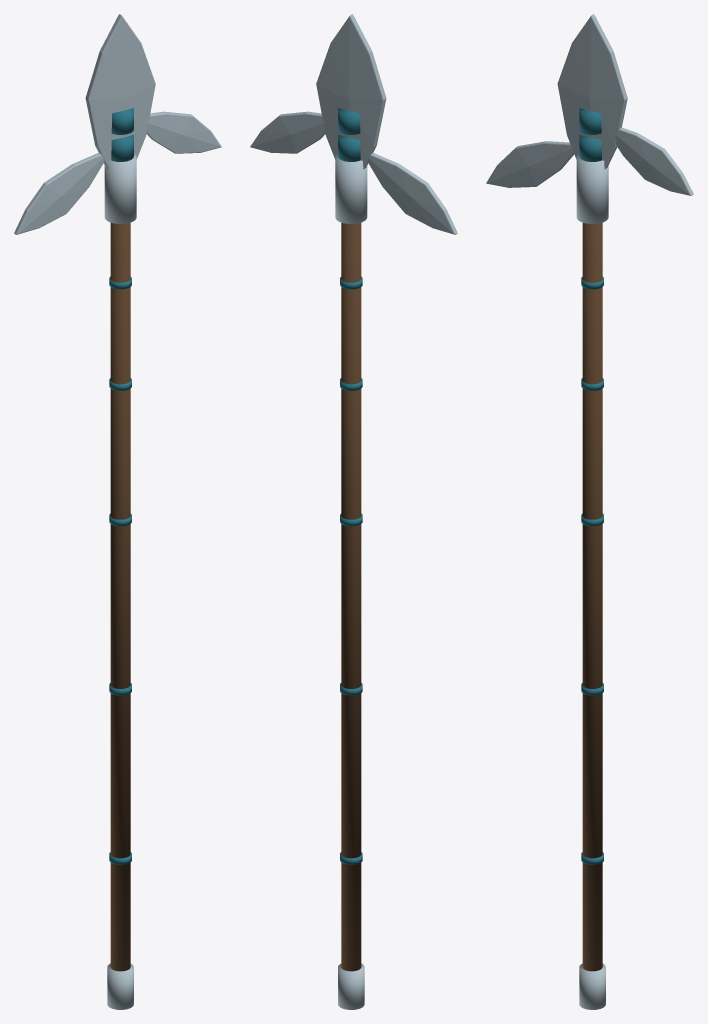
The model's file is elven-branched-spear.fbx.
The picture shows the model from 3 angles, left to right: view 1: azimuth 30°, elevation 25°; view 2: azimuth 150°, elevation 25°; view 3: azimuth 330°, elevation 25°; orthographic projection.
Visible parts, largest first — view 1: ElvenBranchedSpearShaft, ElvenBranchedSpearCentralLeaf, ElvenBranchedSpearBranchLeftLow, ElvenBranchedSpearBranchRightHigh, ElvenBranchedSpearHeadCollar, ElvenBranchedSpearButtCap, ElvenBranchedSpearBranchLeftLowCollar, ElvenBranchedSpearBranchRightHighCollar; view 2: ElvenBranchedSpearShaft, ElvenBranchedSpearCentralLeaf, ElvenBranchedSpearBranchLeftLow, ElvenBranchedSpearBranchRightHigh, ElvenBranchedSpearHeadCollar, ElvenBranchedSpearButtCap, ElvenBranchedSpearBranchLeftLowCollar, ElvenBranchedSpearBranchRightHighCollar; view 3: ElvenBranchedSpearShaft, ElvenBranchedSpearCentralLeaf, ElvenBranchedSpearBranchLeftLow, ElvenBranchedSpearBranchRightHigh, ElvenBranchedSpearHeadCollar, ElvenBranchedSpearButtCap, ElvenBranchedSpearBranchLeftLowCollar, ElvenBranchedSpearBranchRightHighCollar.
Part boxes in pixels (bbox=[...]): ElvenBranchedSpearShaft: bbox=[110, 222, 130, 971]; ElvenBranchedSpearCentralLeaf: bbox=[85, 14, 155, 169]; ElvenBranchedSpearBranchLeftLow: bbox=[14, 153, 104, 234]; ElvenBranchedSpearBranchRightHigh: bbox=[146, 111, 221, 153]; ElvenBranchedSpearHeadCollar: bbox=[104, 154, 136, 223]; ElvenBranchedSpearButtCap: bbox=[107, 963, 133, 1009]; ElvenBranchedSpearBranchLeftLowCollar: bbox=[111, 135, 133, 161]; ElvenBranchedSpearBranchRightHighCollar: bbox=[111, 108, 133, 134]; ElvenBranchedSpearShaft: bbox=[341, 222, 361, 971]; ElvenBranchedSpearCentralLeaf: bbox=[316, 14, 386, 169]; ElvenBranchedSpearBranchLeftLow: bbox=[367, 153, 457, 234]; ElvenBranchedSpearBranchRightHigh: bbox=[250, 111, 325, 153]; ElvenBranchedSpearHeadCollar: bbox=[335, 154, 367, 223]; ElvenBranchedSpearButtCap: bbox=[338, 963, 364, 1009]; ElvenBranchedSpearBranchLeftLowCollar: bbox=[338, 135, 360, 161]; ElvenBranchedSpearBranchRightHighCollar: bbox=[338, 108, 360, 134]; ElvenBranchedSpearShaft: bbox=[582, 222, 602, 971]; ElvenBranchedSpearCentralLeaf: bbox=[557, 14, 627, 169]; ElvenBranchedSpearBranchLeftLow: bbox=[486, 141, 574, 187]; ElvenBranchedSpearBranchRightHigh: bbox=[615, 127, 693, 195]; ElvenBranchedSpearHeadCollar: bbox=[576, 154, 608, 223]; ElvenBranchedSpearButtCap: bbox=[579, 963, 605, 1009]; ElvenBranchedSpearBranchLeftLowCollar: bbox=[579, 135, 601, 161]; ElvenBranchedSpearBranchRightHighCollar: bbox=[579, 108, 601, 134].
Bounding box in the file's own units: 0.6357 × 2.92 × 0.086.
